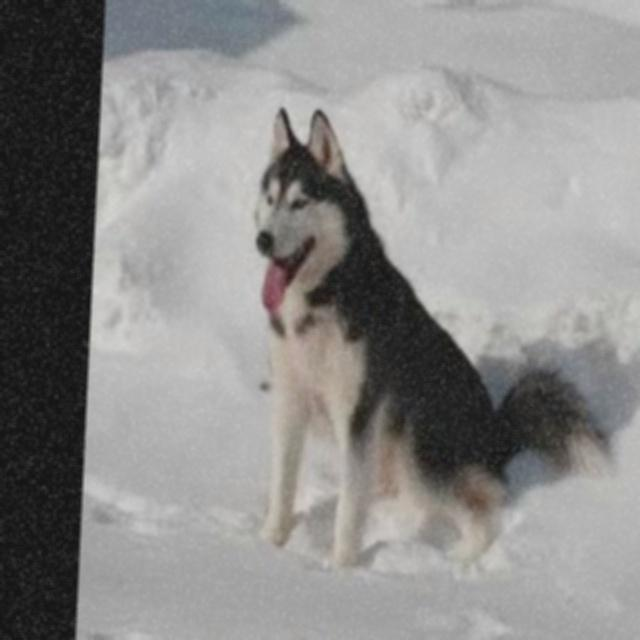dog: (188, 81, 560, 612), (184, 610, 536, 640)
